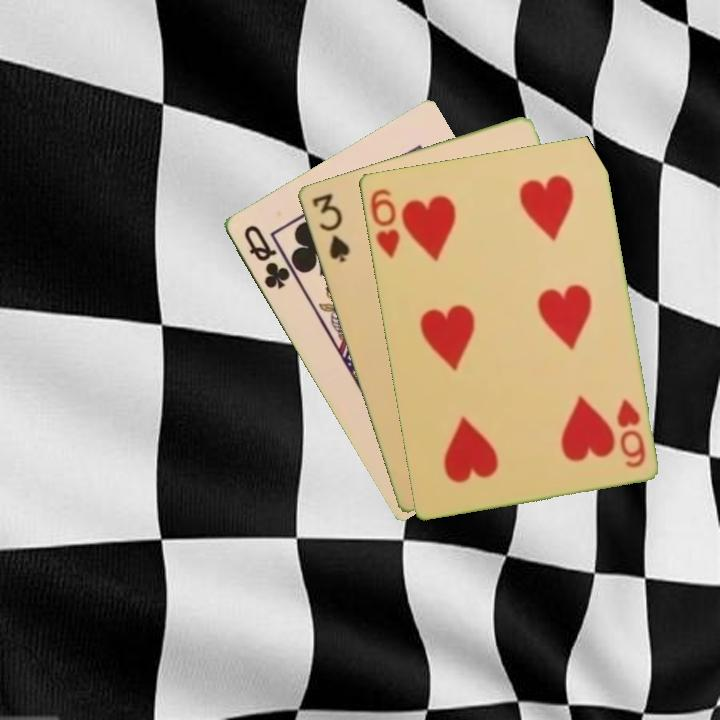3s: (308, 189, 352, 265)
6h: (366, 185, 403, 261), (612, 395, 648, 471)
Qc: (239, 221, 293, 292)
